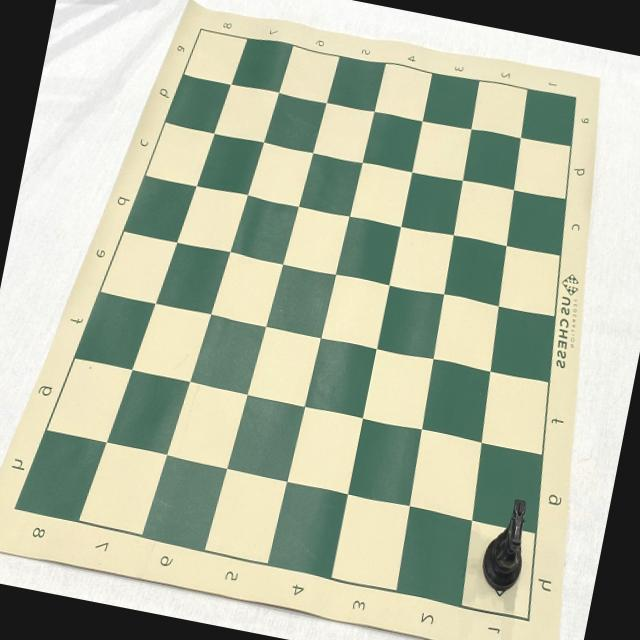black-knight: (478, 494, 534, 595)
